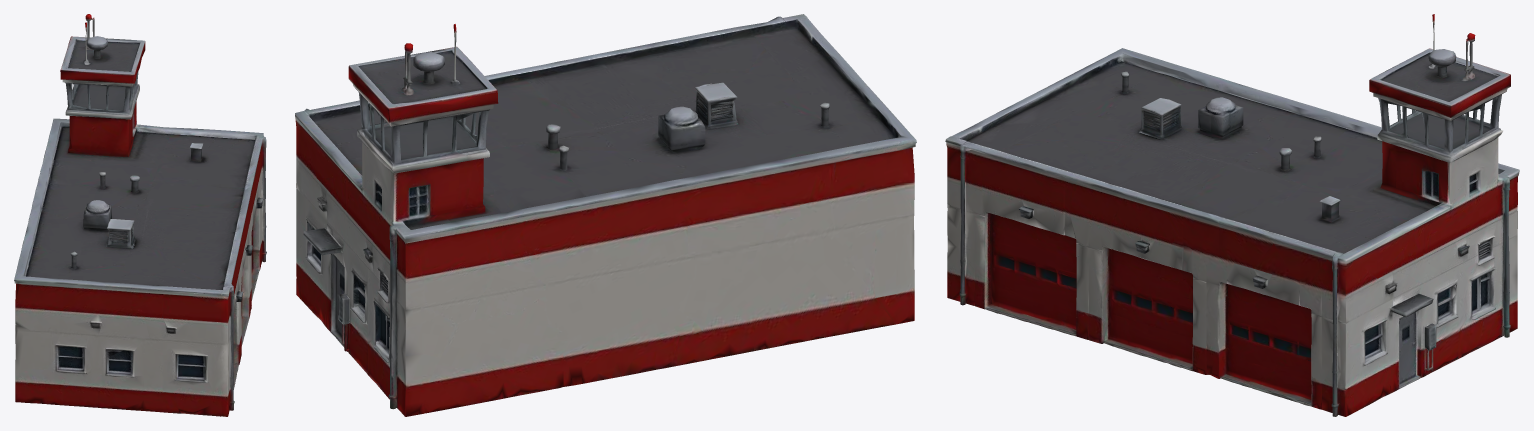
File: fire_station.glb
3 renders of one model, left to right at view 1: azimuth 30°, elevation 25°; view 2: azimuth 150°, elevation 25°; view 3: azimuth 270°, elevation 25°, orthographic. The views are drawn at different scales.
Parts seen in each view (by area): view 1: tripo_node_14e8f84e-a721-486e-b4fb-c35591de8a88; view 2: tripo_node_14e8f84e-a721-486e-b4fb-c35591de8a88; view 3: tripo_node_14e8f84e-a721-486e-b4fb-c35591de8a88.
Part boxes in pixels (left/top/right/bottom): tripo_node_14e8f84e-a721-486e-b4fb-c35591de8a88: left=14, top=14, right=266, bottom=416; tripo_node_14e8f84e-a721-486e-b4fb-c35591de8a88: left=295, top=14, right=916, bottom=416; tripo_node_14e8f84e-a721-486e-b4fb-c35591de8a88: left=945, top=14, right=1519, bottom=416.
Bounding box in the file's own units: 0.9572 × 0.6651 × 1.1.
Materials: 1 (1 with a texture image).
